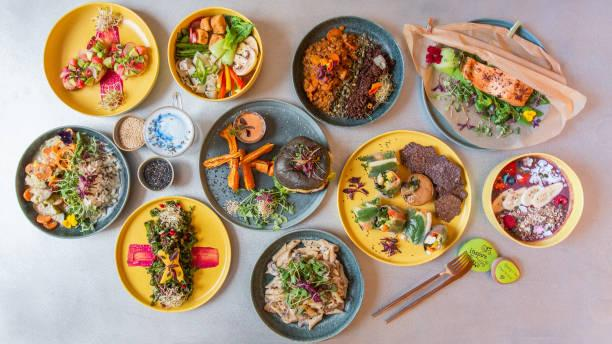Braised Crucian Carp: (419, 17, 565, 152), (338, 129, 468, 265), (200, 97, 324, 231), (114, 196, 231, 312), (41, 1, 156, 117), (12, 125, 127, 238), (250, 228, 363, 341), (292, 15, 401, 129), (481, 152, 583, 248), (167, 6, 262, 103)
